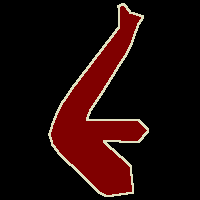tie: (49, 3, 148, 196)
